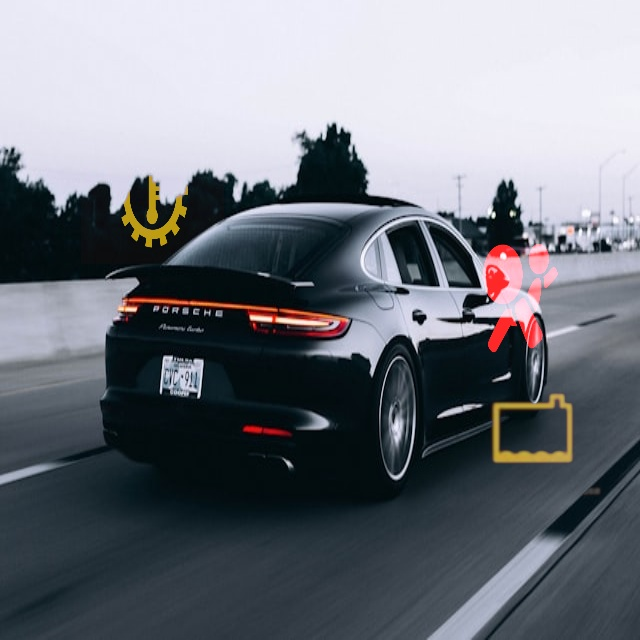symbol: (460, 356, 606, 502), (443, 222, 588, 367), (81, 121, 224, 264)
